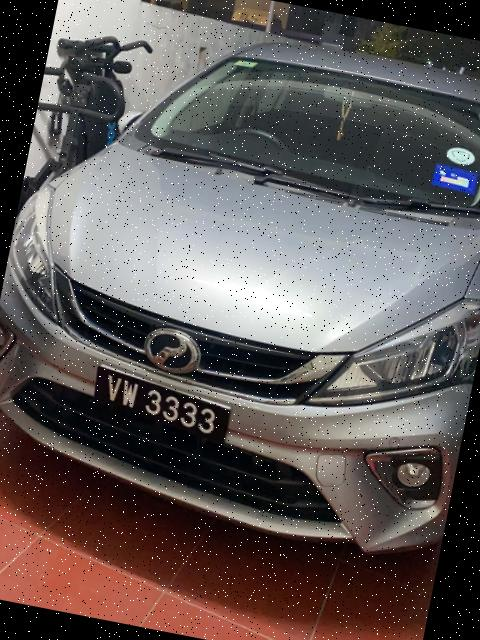License_Plate: (67, 359, 246, 457)
car: (1, 1, 480, 577)
